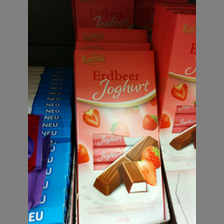chocolate: (73, 48, 170, 223), (155, 12, 196, 173)
